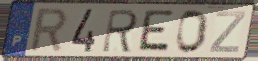4: (70, 8, 97, 55)
E: (135, 8, 176, 55)
O: (174, 8, 211, 55)
R: (27, 6, 70, 55), (100, 8, 141, 54)
Z: (207, 10, 248, 54)
